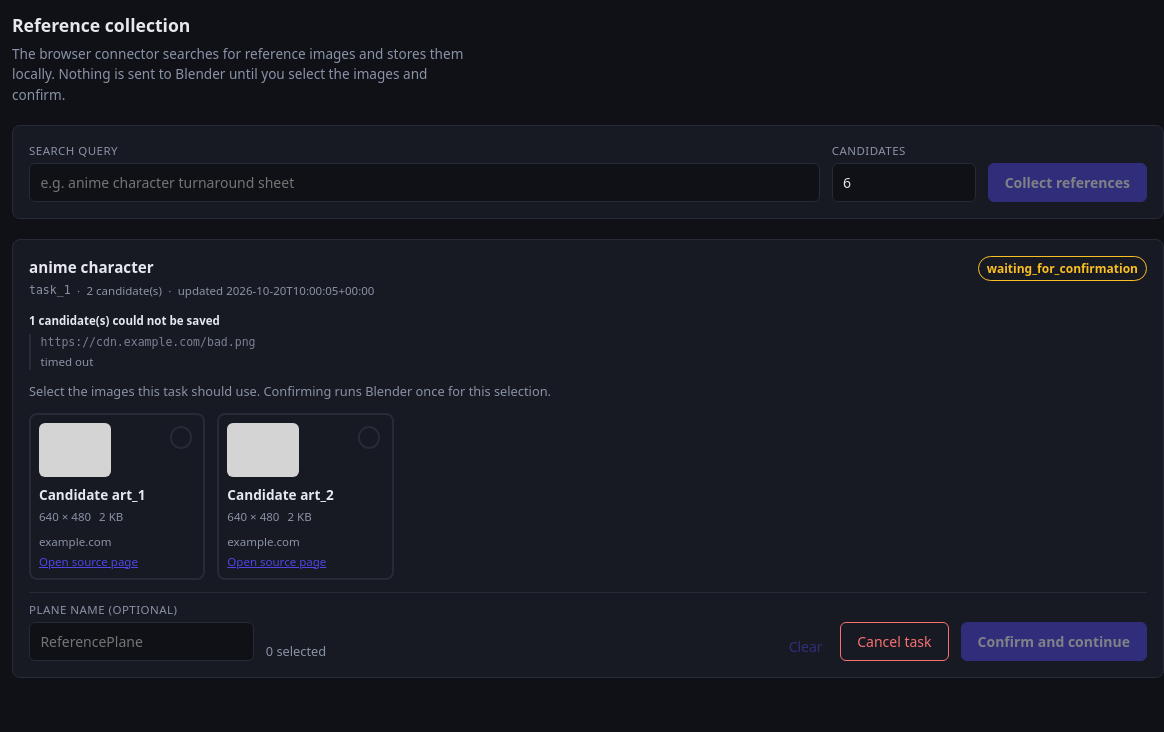
Test case: ReferencesView › does not enable confirmation until something is selected
This screenshot has width=1164, height=732.
Check: the button with test id "confirm" is disabled, box left=960, top=622, right=1147, bottom=661
Click the checkbox with test id "card-art_1": (117, 496) left=29, top=413, right=205, bottom=580
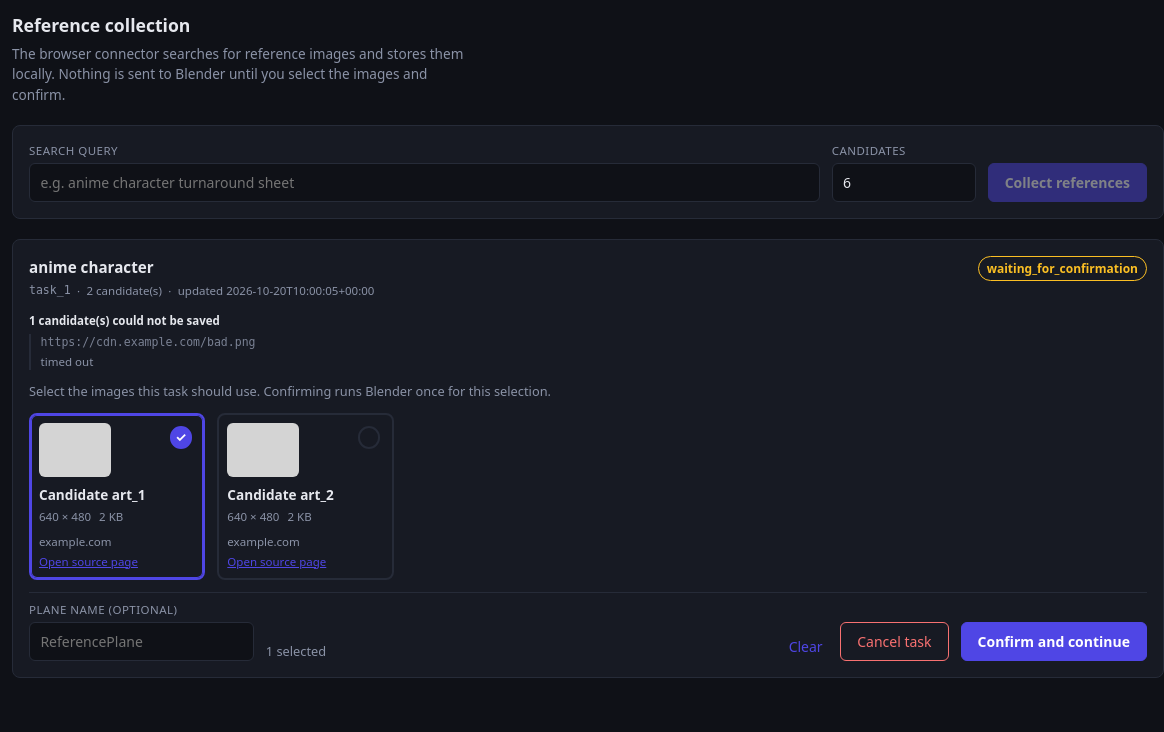
Check: the button with test id "confirm" is enabled, box left=960, top=622, right=1147, bottom=661
